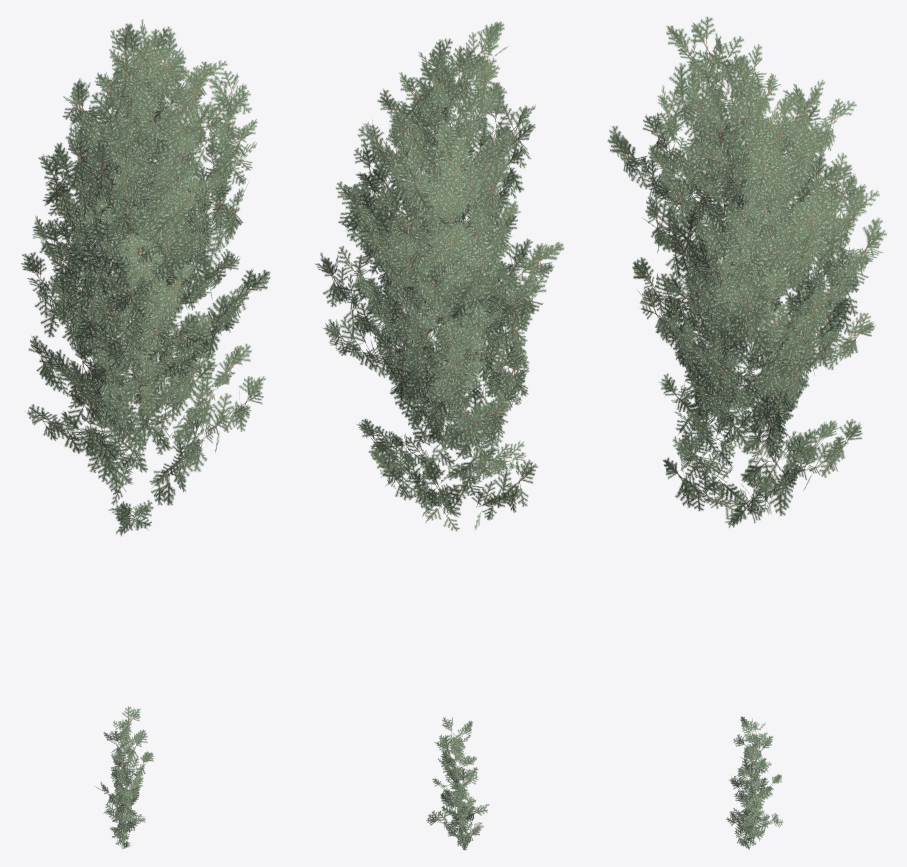
Rendered from pine_leaf.glb.
The picture shows the model from 3 angles, left to right: view 1: azimuth 30°, elevation 25°; view 2: azimuth 150°, elevation 25°; view 3: azimuth 270°, elevation 25°; orthographic projection. The views are drawn at different scales.
Visible parts, largest first — view 1: pine_c, pine_b, pine_a, pine_sap_b, pine_sap_a; view 2: pine_a, pine_c, pine_b, pine_sap_b, pine_sap_a; view 3: pine_c, pine_a, pine_b, pine_sap_b, pine_sap_a.
Part boxes in pixels (x1,y1,x2,y2): pine_c: [32, 19, 270, 374]; pine_b: [27, 196, 265, 536]; pine_a: [21, 78, 248, 409]; pine_sap_b: [95, 706, 153, 835]; pine_sap_a: [108, 770, 139, 848]; pine_a: [323, 109, 554, 446]; pine_c: [315, 21, 564, 395]; pine_b: [356, 210, 537, 531]; pine_sap_b: [426, 717, 489, 834]; pine_sap_a: [441, 780, 483, 850]; pine_c: [607, 16, 857, 408]; pine_a: [632, 84, 886, 420]; pine_b: [657, 197, 862, 527]; pine_sap_b: [726, 716, 782, 832]; pine_sap_a: [731, 777, 772, 849].
Bounding box in the file's own units: 7.26 × 25.67 × 8.17.
Materials: 1 (1 with a texture image).
